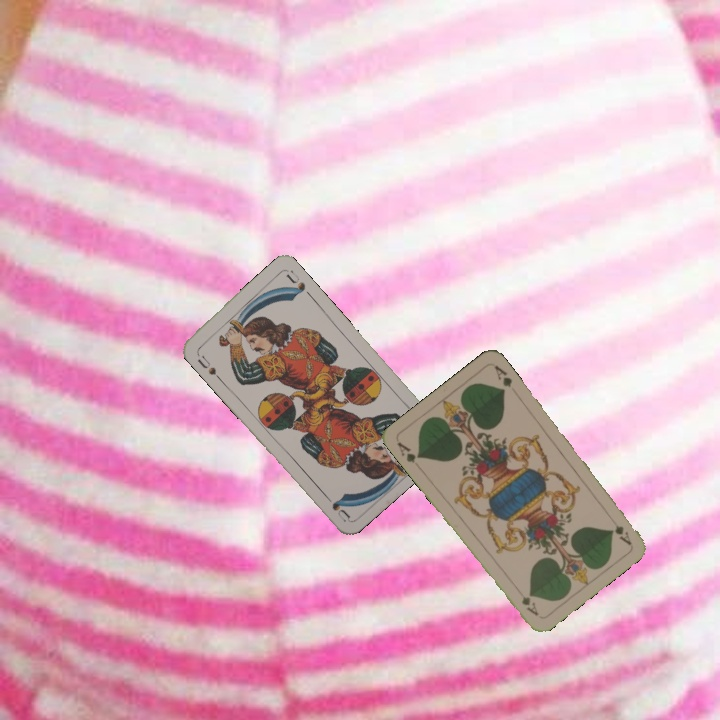GA: (393, 437, 423, 466), (611, 521, 634, 547)
SU: (193, 347, 219, 378)
